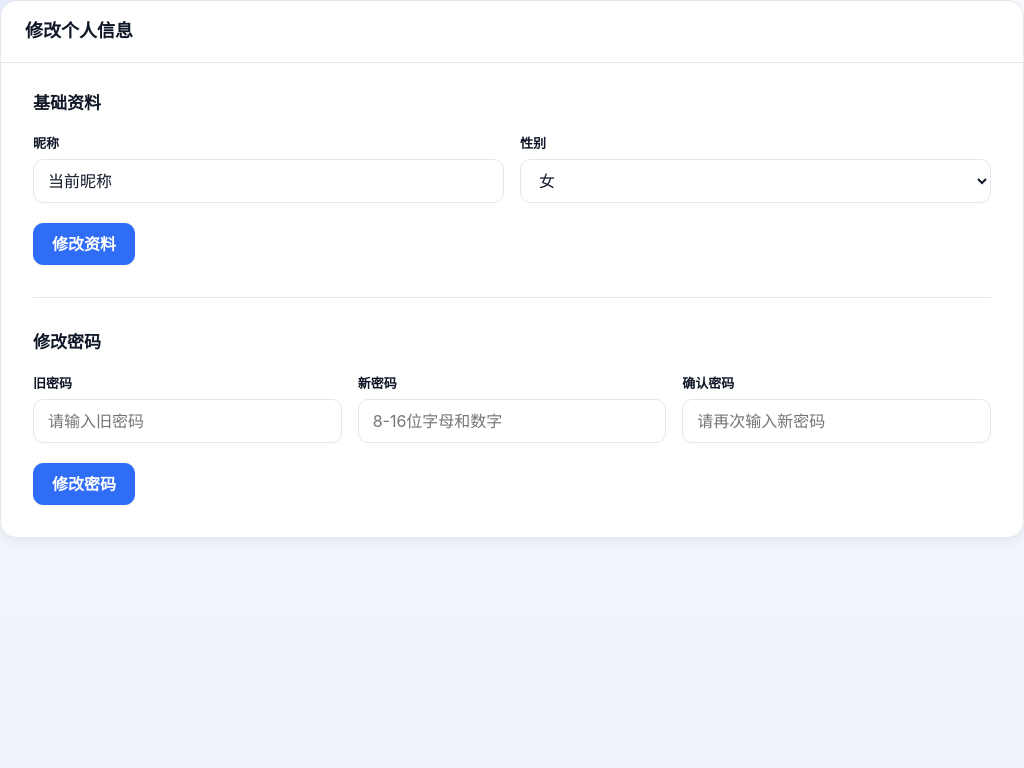
Test case: ProfileInfoView › 旧密码实时校验仅检查必填
This screenshot has width=1024, height=768.
Clear the password field labelled "旧密码" at [187, 421], box [33,399,342,443]
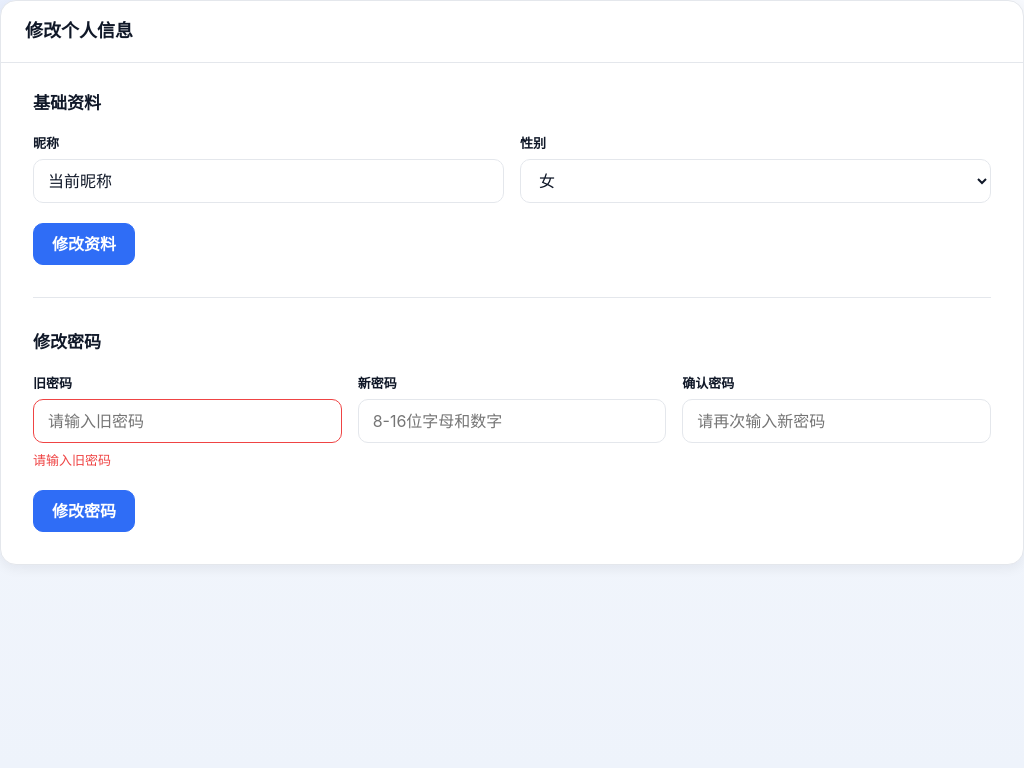
Now the text "请输入旧密码" is shown, box [33,452,111,468]
Type "短" into the password field labelled "旧密码 请输入旧密码".
click(187, 421); type("短")  # box [33,399,342,443]
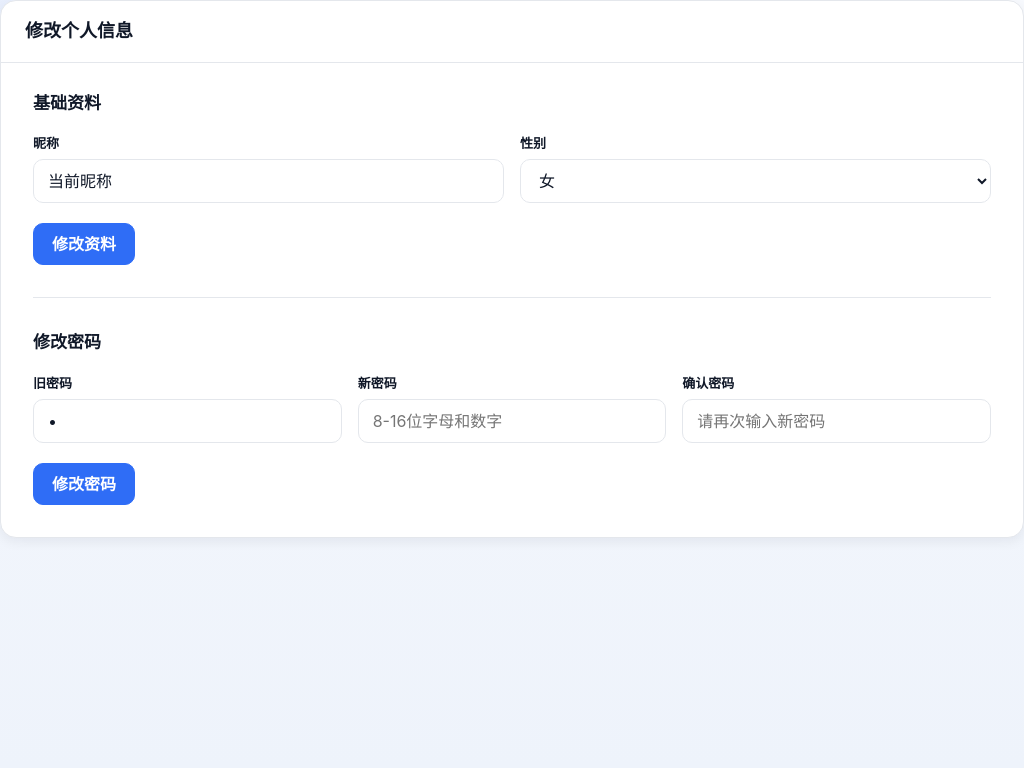
Now the text "请输入旧密码" is gone
